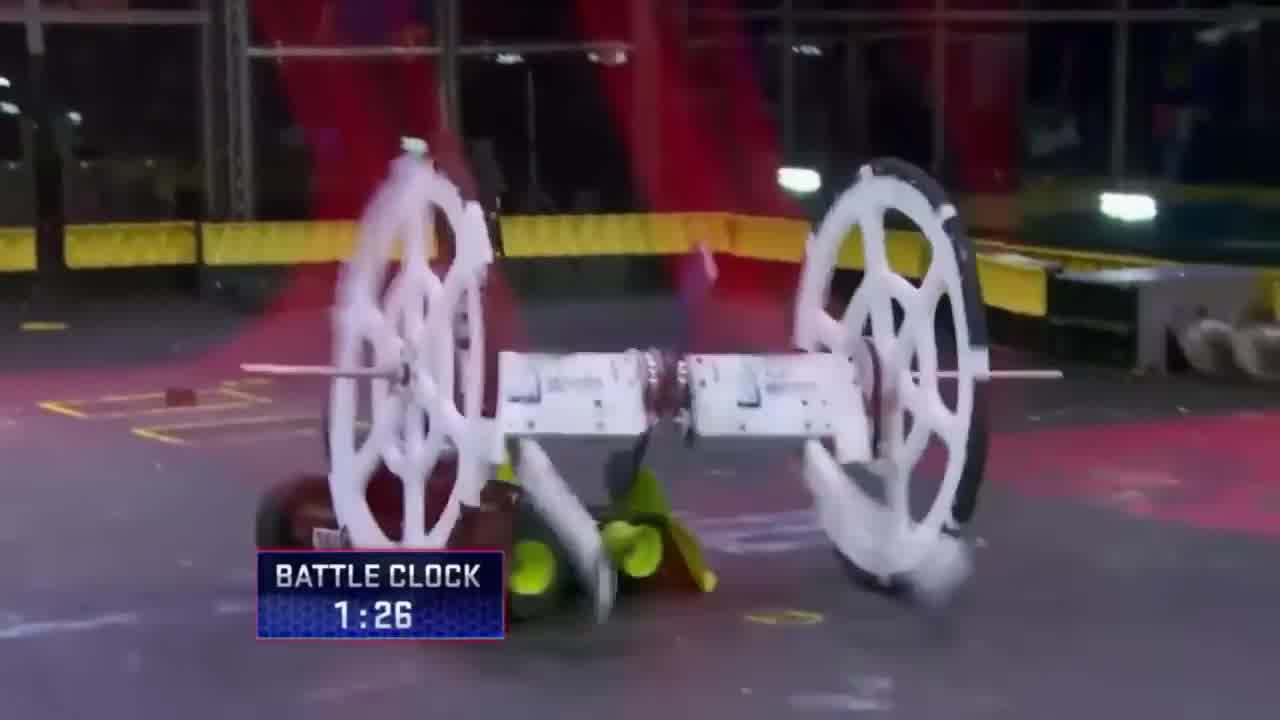combatbot: (327, 150, 987, 608), (253, 468, 720, 619)
